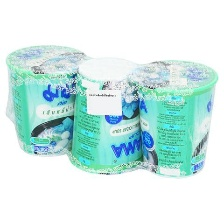paper_cup: (124, 55, 224, 182), (62, 51, 156, 177), (2, 38, 96, 159)
